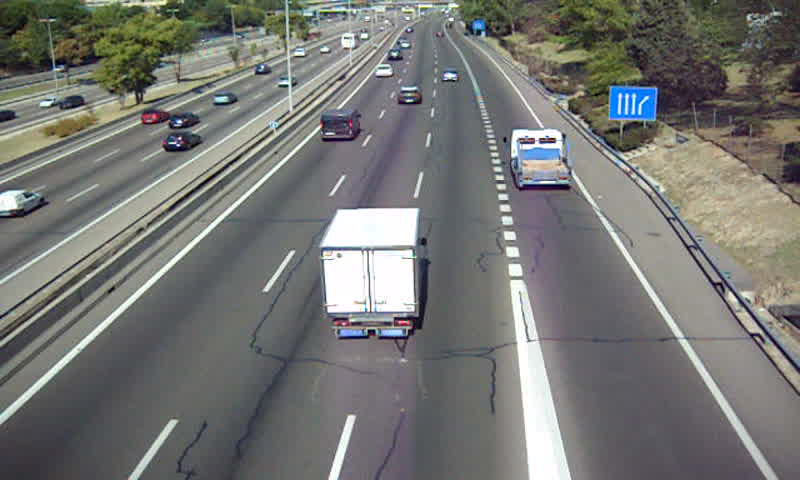car: (396, 84, 424, 108), (373, 64, 392, 80), (441, 69, 460, 83)
small-truck: (323, 208, 421, 337), (509, 127, 571, 187)
van: (318, 108, 361, 140)
